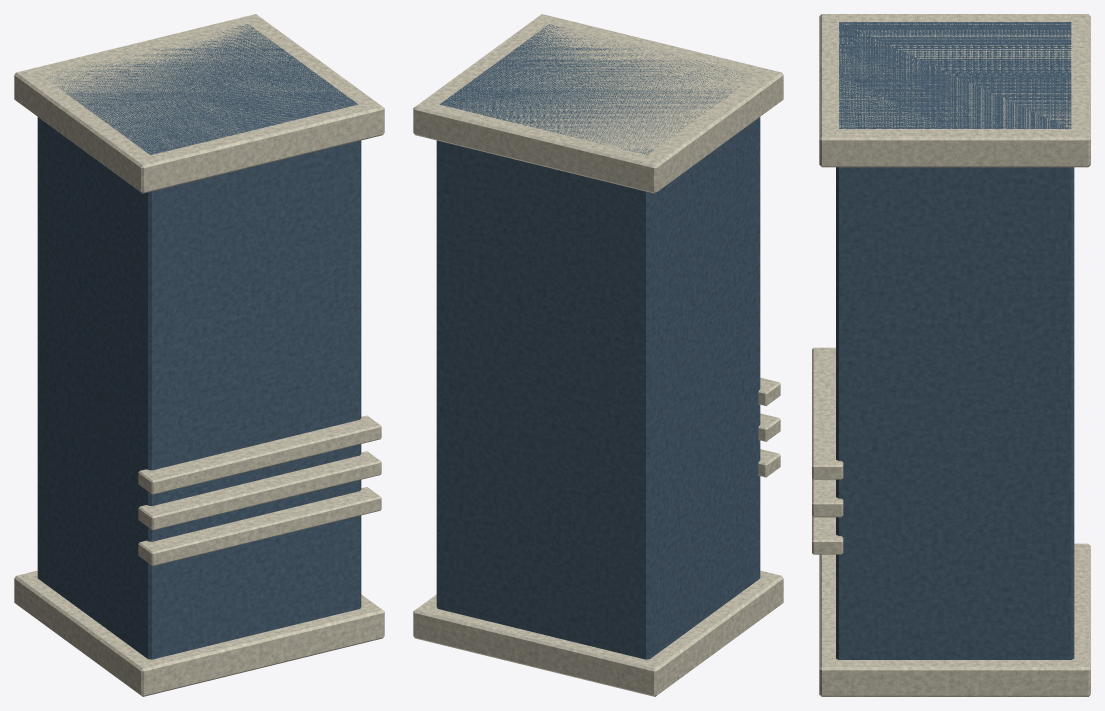
File: TUNN21RC_lod1.glb
3 views of the same model, side by side, from view 1: azimuth 30°, elevation 25°; view 2: azimuth 150°, elevation 25°; view 3: azimuth 270°, elevation 25° (orthographic). The views are drawn at different scales.
Visible parts, largest first — view 1: TUNN21RC_LOD1; view 2: TUNN21RC_LOD1; view 3: TUNN21RC_LOD1.
Boxes of the visible parts, box(x1,y1,x2,y2) form: TUNN21RC_LOD1: box(14, 14, 384, 696); TUNN21RC_LOD1: box(413, 14, 783, 696); TUNN21RC_LOD1: box(812, 14, 1090, 696).
Size of the model in its own units: 1.43 by 3 by 1.34.
2 materials, 2 textured.
